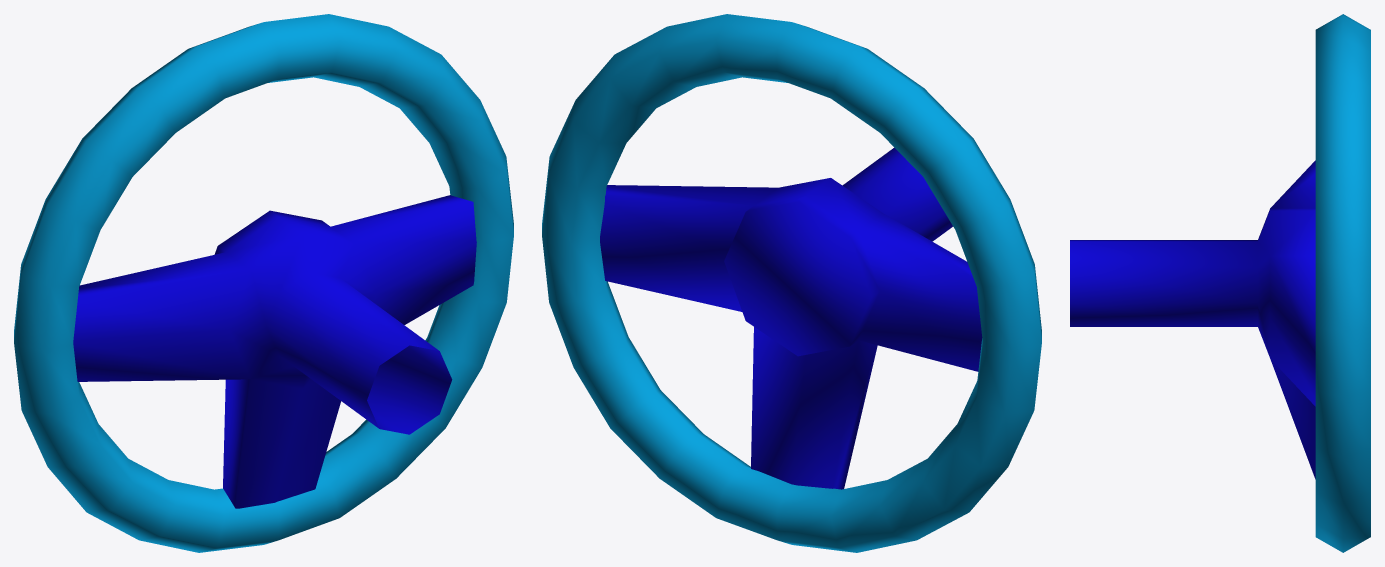
The model's file is SteeringWheelClean.fbx.
The picture shows the model from 3 angles, left to right: view 1: azimuth 30°, elevation 25°; view 2: azimuth 150°, elevation 25°; view 3: azimuth 270°, elevation 25°; orthographic projection. The views are drawn at different scales.
Visible parts, largest first — view 1: polySurface2; view 2: polySurface2; view 3: polySurface2.
Part boxes in pixels (x1,y1,x2,y2): polySurface2: (14, 14, 513, 552); polySurface2: (542, 14, 1041, 552); polySurface2: (1070, 14, 1370, 552).
Size of the model in its own units: 0.3385 by 0.3385 by 0.1882.
